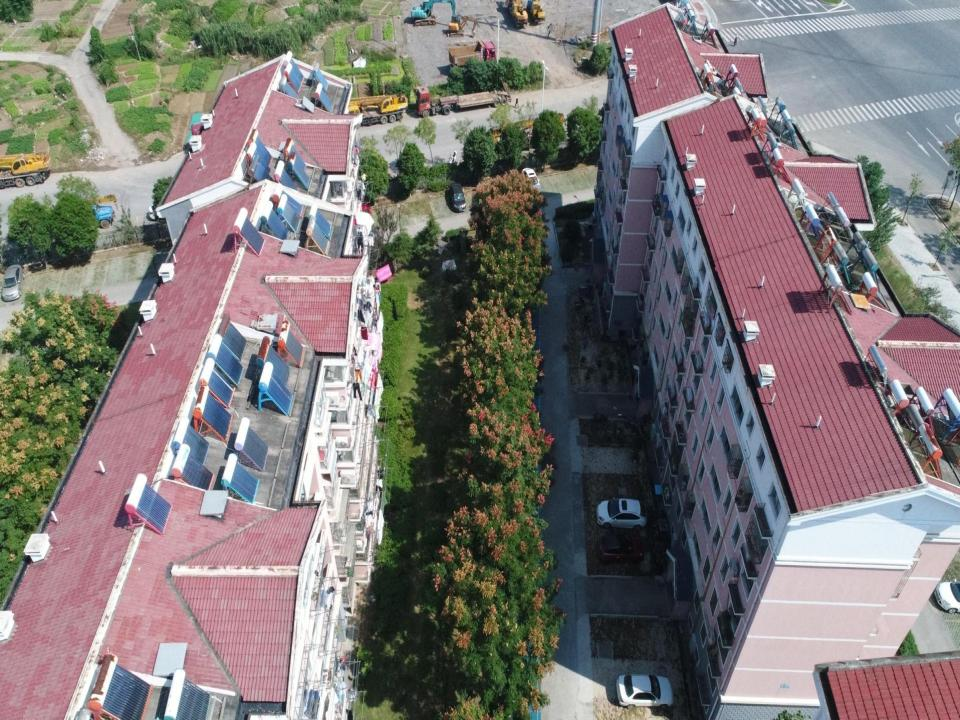bus: (183, 113, 207, 157)
car: (616, 674, 674, 710), (596, 497, 647, 530), (599, 532, 644, 564), (1, 264, 25, 302), (934, 578, 959, 614), (522, 167, 541, 196), (449, 183, 466, 212)
truck: (416, 76, 512, 119), (342, 93, 408, 129), (448, 40, 496, 74)
